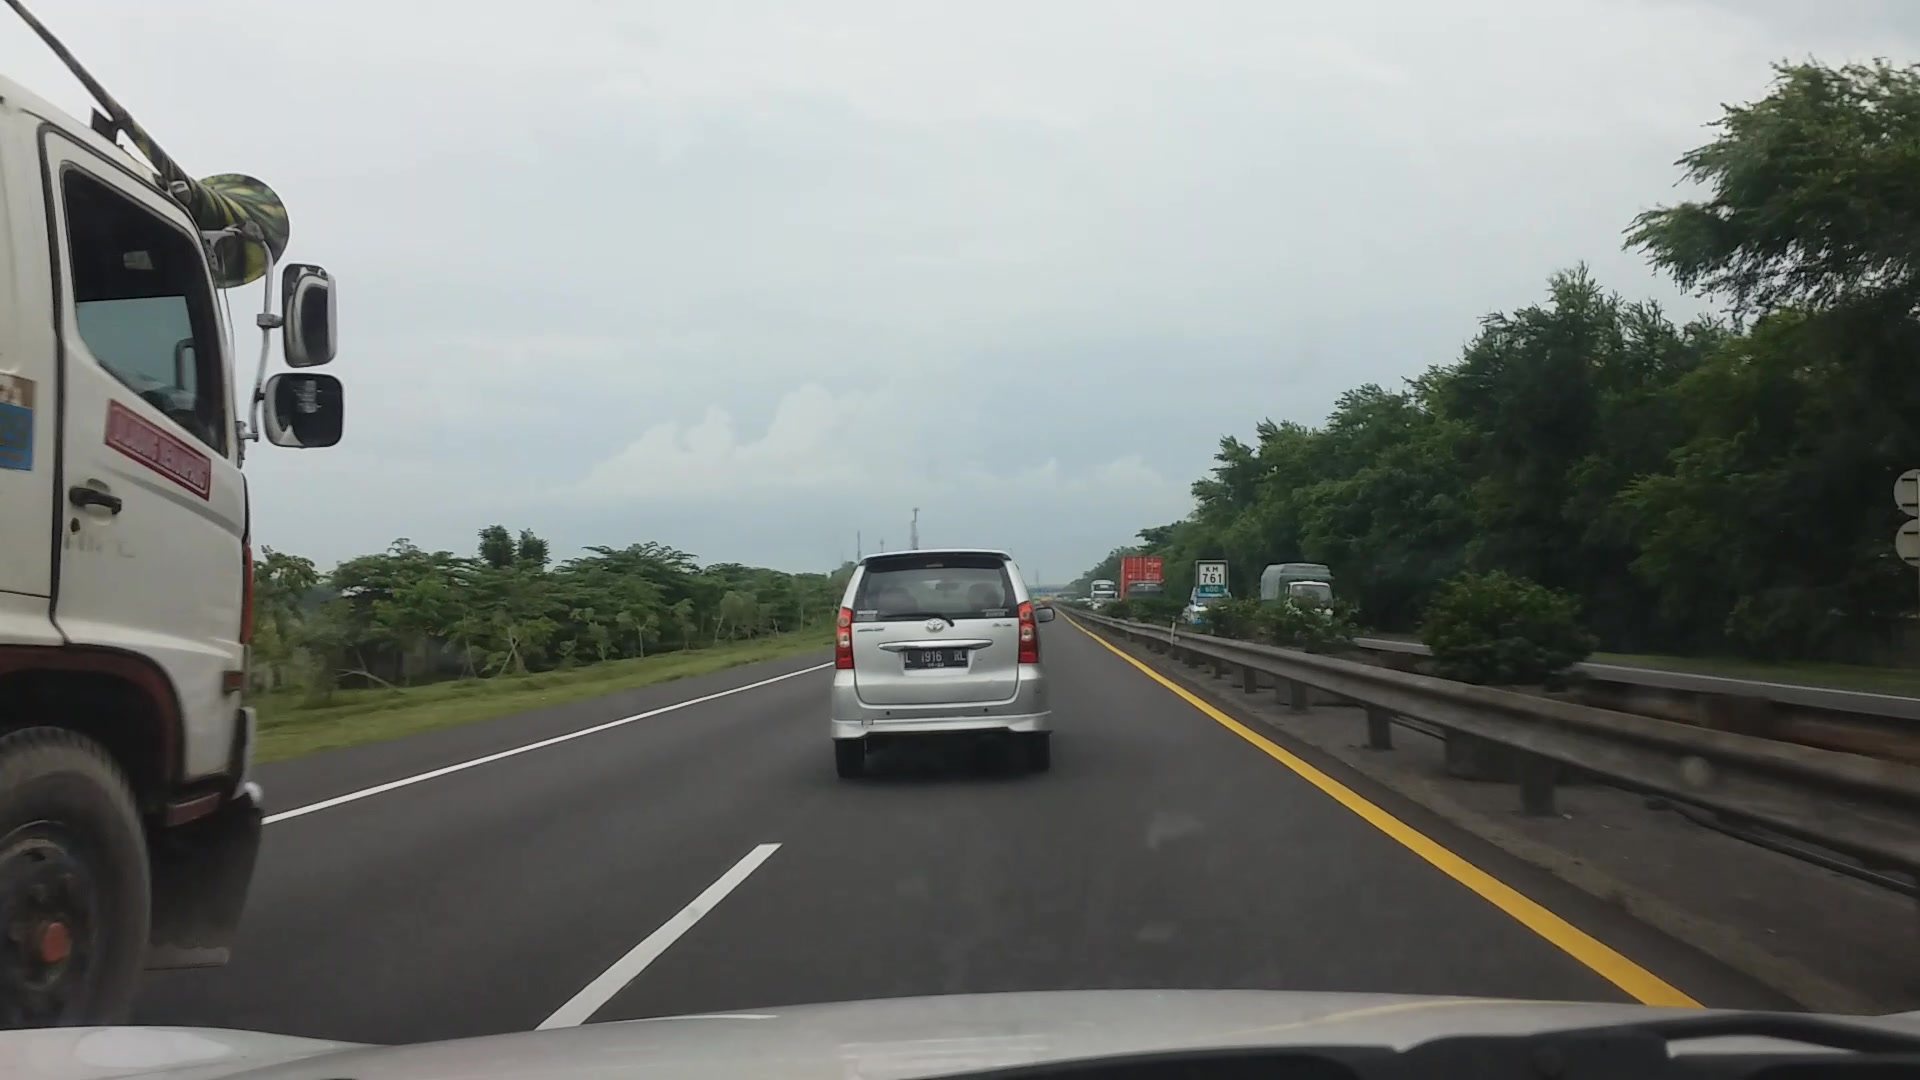plate_positive: (905, 647, 967, 669)
